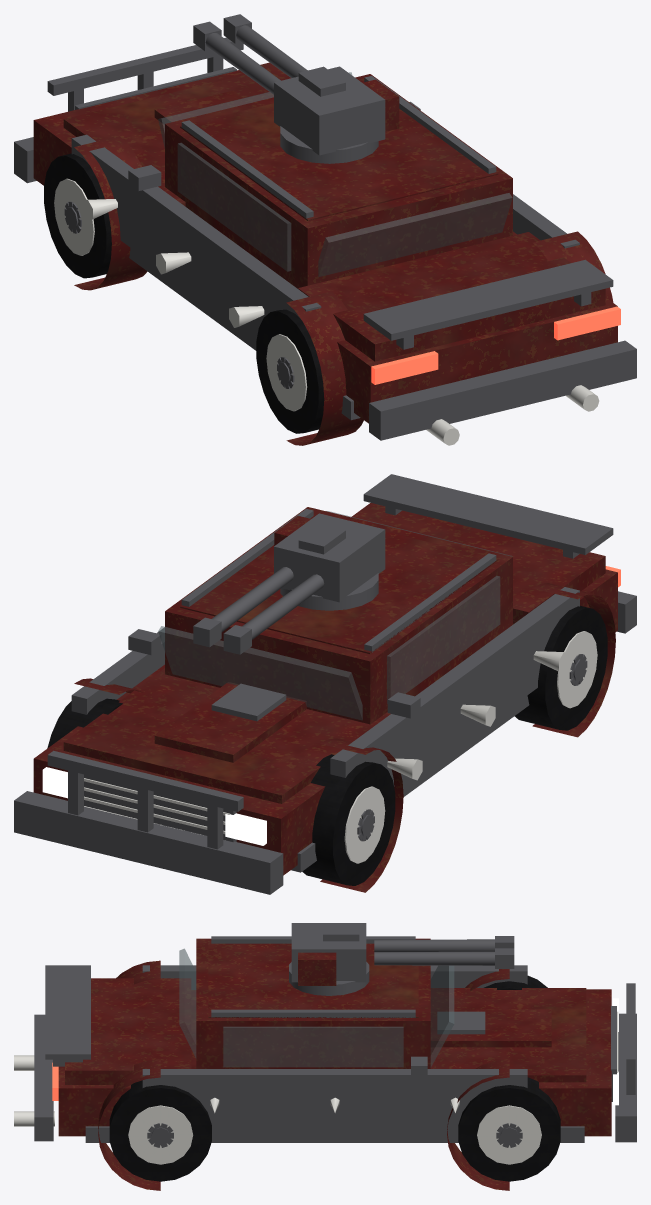
Rendered from enemy_boss_warrig.glb.
The picture shows the model from 3 angles, top to bottom: view 1: azimuth 30°, elevation 25°; view 2: azimuth 150°, elevation 25°; view 3: azimuth 270°, elevation 25°; orthographic projection. The views are drawn at different scales.
Parts seen in each view (by area): view 1: boss_Body, Turret, Hood, Wheel_RL, Wheel_FL, Barrel; view 2: boss_Body, Hood, Wheel_FL, Turret, Wheel_RL, Barrel, Wheel_FR; view 3: boss_Body, Hood, Wheel_FR, Wheel_RR, Turret, Barrel, Wheel_FL.
Part boxes in pixels (x1,y1,x2,y2): boss_Body: (14, 37, 636, 445); Turret: (274, 66, 399, 163); Hood: (63, 67, 290, 206); Wheel_RL: (256, 309, 324, 433); Wheel_FL: (44, 153, 111, 278); Barrel: (193, 14, 307, 94); boss_Body: (14, 474, 636, 894); Hood: (63, 668, 390, 803); Wheel_FL: (302, 754, 395, 885); Turret: (274, 513, 385, 610); Wheel_RL: (514, 605, 607, 730); Barrel: (193, 567, 324, 654); Wheel_FR: (47, 698, 122, 748); boss_Body: (14, 936, 636, 1190); Hood: (430, 988, 586, 1082); Wheel_FR: (458, 1077, 560, 1181); Wheel_RR: (109, 1080, 211, 1181); Turret: (289, 923, 369, 995); Barrel: (374, 936, 514, 968); Wheel_FL: (484, 975, 547, 989).
Size of the model in its own units: 3.17 by 2.27 by 6.32.
Materials: 7 (2 with a texture image).
